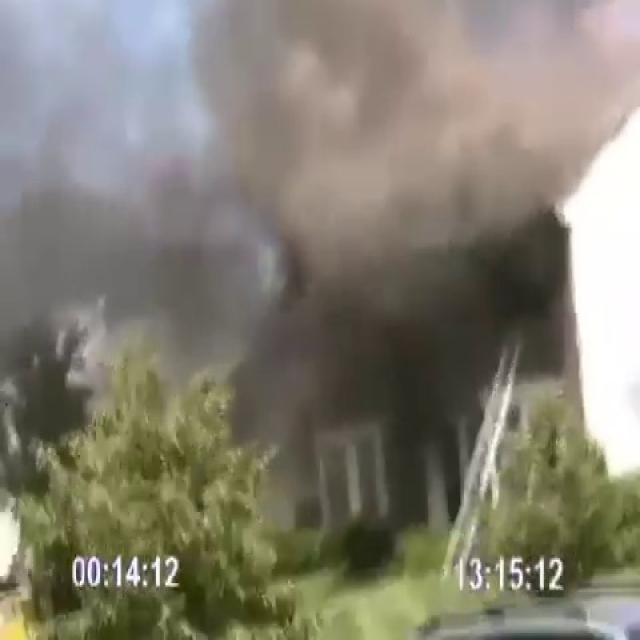Smoke: (75, 0, 610, 532)
